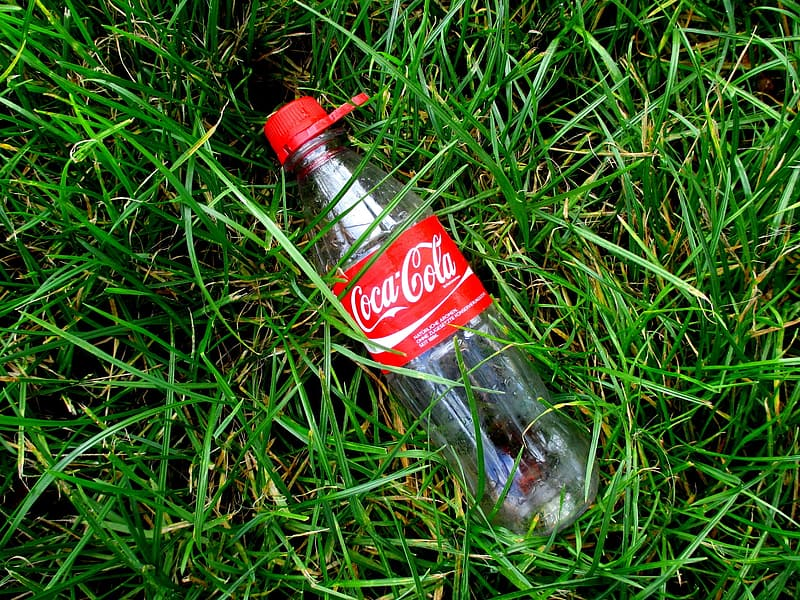plastic_bottle: (256, 84, 605, 543)
